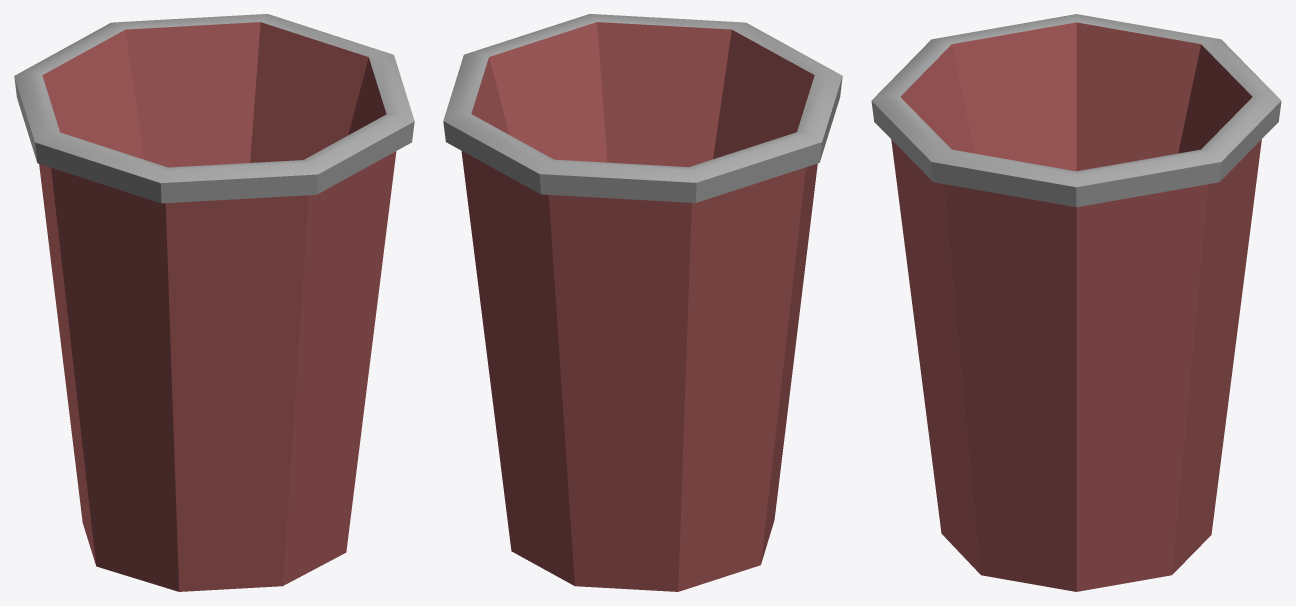
File: solocup.fbx
The picture shows the model from 3 angles, left to right: view 1: azimuth 30°, elevation 25°; view 2: azimuth 150°, elevation 25°; view 3: azimuth 270°, elevation 25°; orthographic projection.
Parts seen in each view (by area): view 1: solocup; view 2: solocup; view 3: solocup.
Part boxes in pixels (left/top/right/bottom): solocup: left=14, top=14, right=414, bottom=591; solocup: left=443, top=14, right=842, bottom=591; solocup: left=871, top=14, right=1281, bottom=591.
Bounding box in the file's own units: 10.02 × 11.86 × 10.02.
